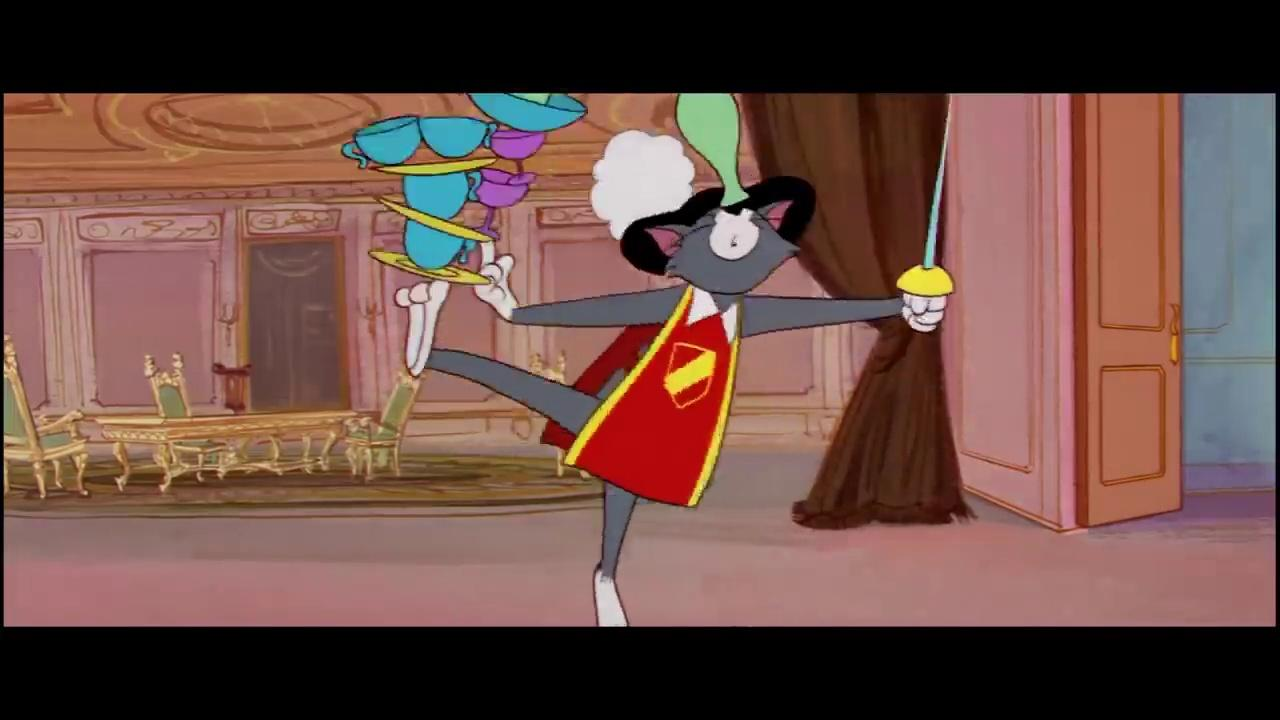Tom: (393, 195, 951, 627)
